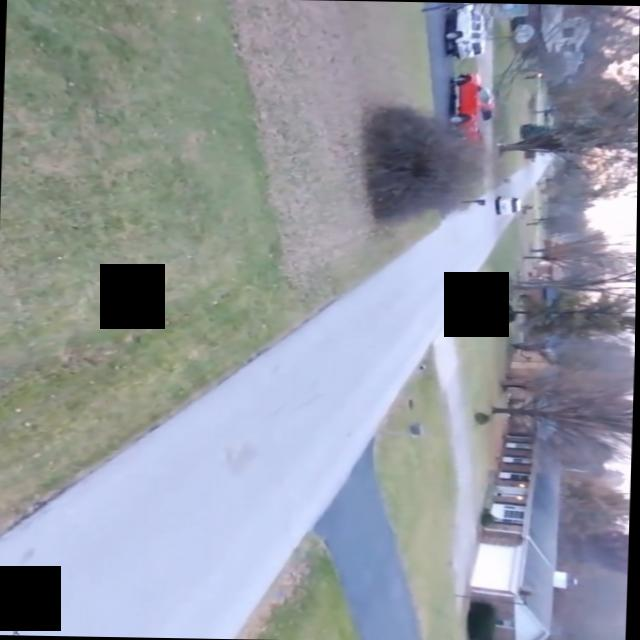Vehicle: (445, 72, 495, 143), (442, 2, 486, 57), (490, 191, 521, 218)
